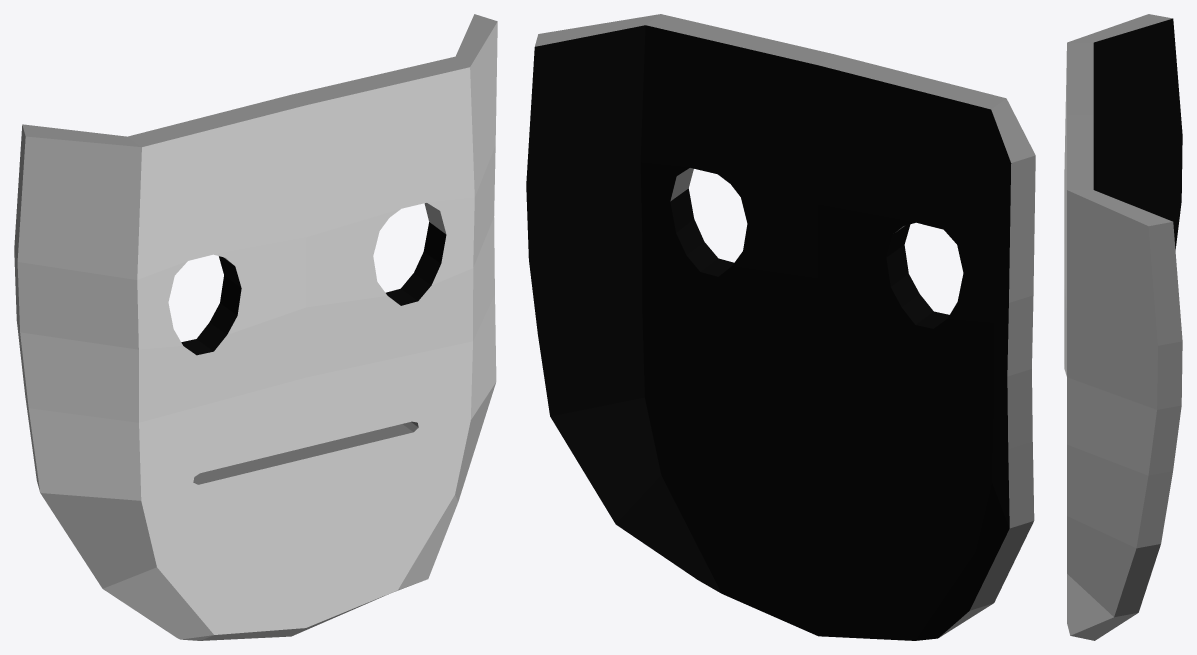
Rendered from LonelyMask.fbx.
3 views of the same model, side by side, from view 1: azimuth 30°, elevation 25°; view 2: azimuth 150°, elevation 25°; view 3: azimuth 270°, elevation 25° (orthographic). The views are drawn at different scales.
Parts seen in each view (by area): view 1: Cube; view 2: Cube; view 3: Cube.
Part boxes in pixels (x1,y1,x2,y2): Cube: [14, 14, 497, 640]; Cube: [526, 14, 1035, 640]; Cube: [1064, 14, 1182, 640].
Size of the model in its own units: 25.92 by 28.07 by 6.03.
